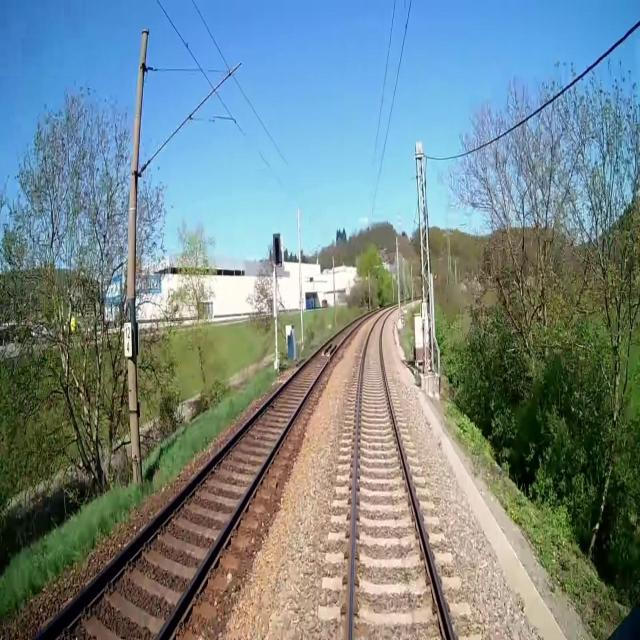rail-track: (39, 319, 359, 639), (352, 314, 450, 639)
